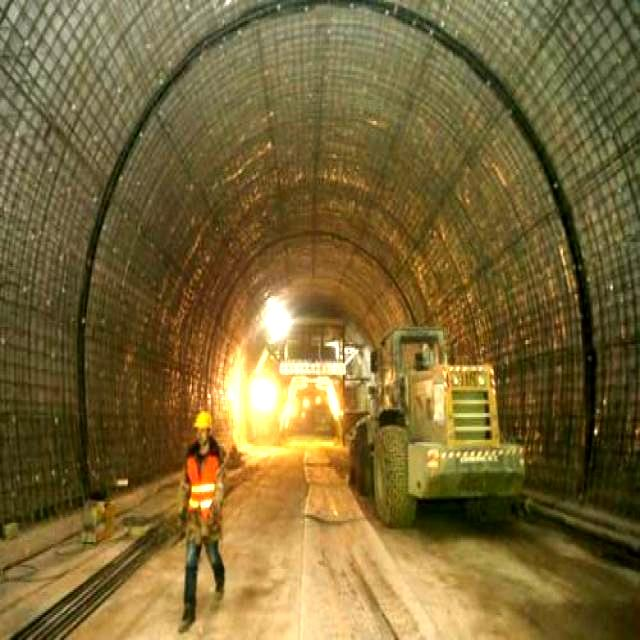hard_hat: (193, 409, 211, 429)
person: (179, 409, 224, 630)
